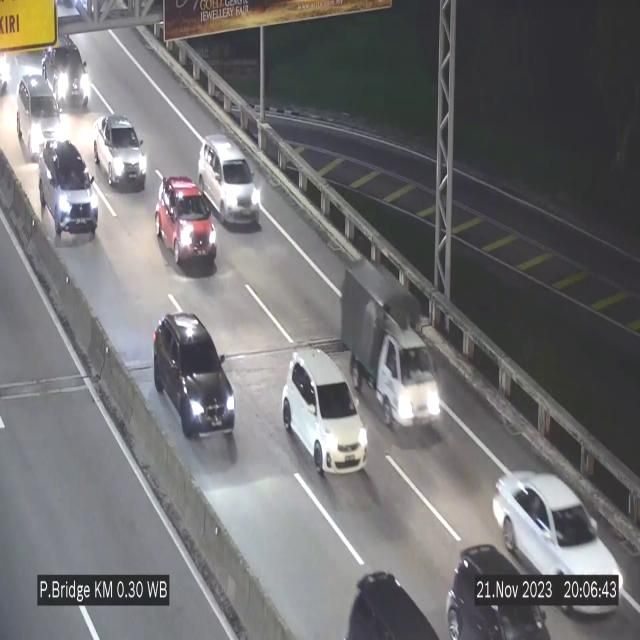Car: (486, 456, 626, 623), (153, 312, 235, 456), (444, 538, 552, 640), (282, 348, 368, 476), (341, 558, 451, 640), (43, 138, 99, 248), (156, 174, 217, 270), (198, 136, 261, 226), (42, 28, 92, 118), (15, 72, 66, 159), (94, 114, 146, 187)
Truck: (342, 262, 442, 429)
